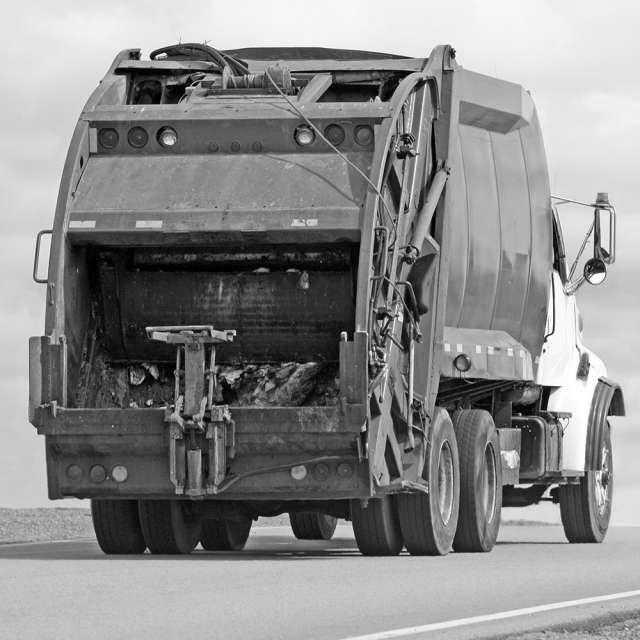Truck: (29, 44, 624, 555)
